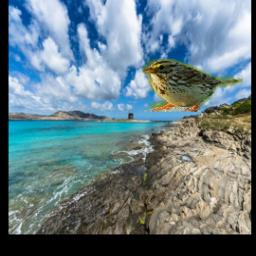Sparrow: (142, 59, 243, 112)
